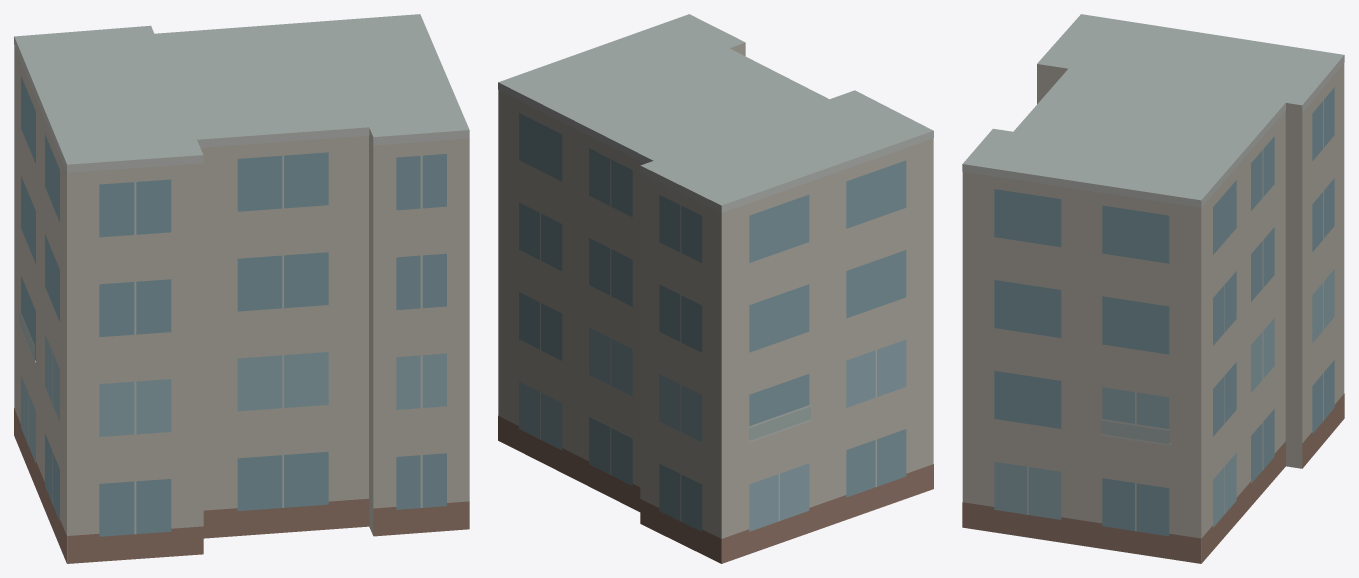
The model's file is survey-upis-32953353.glb.
3 views of the same model, side by side, from view 1: azimuth 30°, elevation 25°; view 2: azimuth 150°, elevation 25°; view 3: azimuth 270°, elevation 25° (orthographic). The views are drawn at different scales.
Visible parts, largest first — view 1: survey-upis-32953353.tmp; view 2: survey-upis-32953353.tmp; view 3: survey-upis-32953353.tmp.
Boxes of the visible parts, box(x1,y1,x2,y2) form: survey-upis-32953353.tmp: box(14, 14, 469, 563); survey-upis-32953353.tmp: box(498, 14, 933, 563); survey-upis-32953353.tmp: box(962, 14, 1344, 563).
Size of the model in its own units: 12.98 by 11.8 by 11.25.
